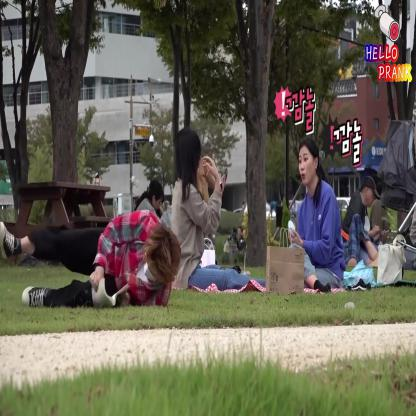Fall_Down: (0, 208, 179, 310)
